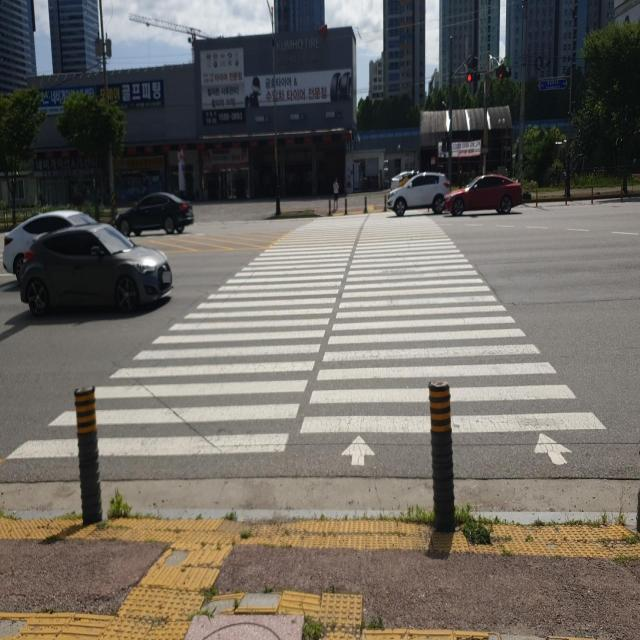횡단보도: (6, 214, 606, 466)
